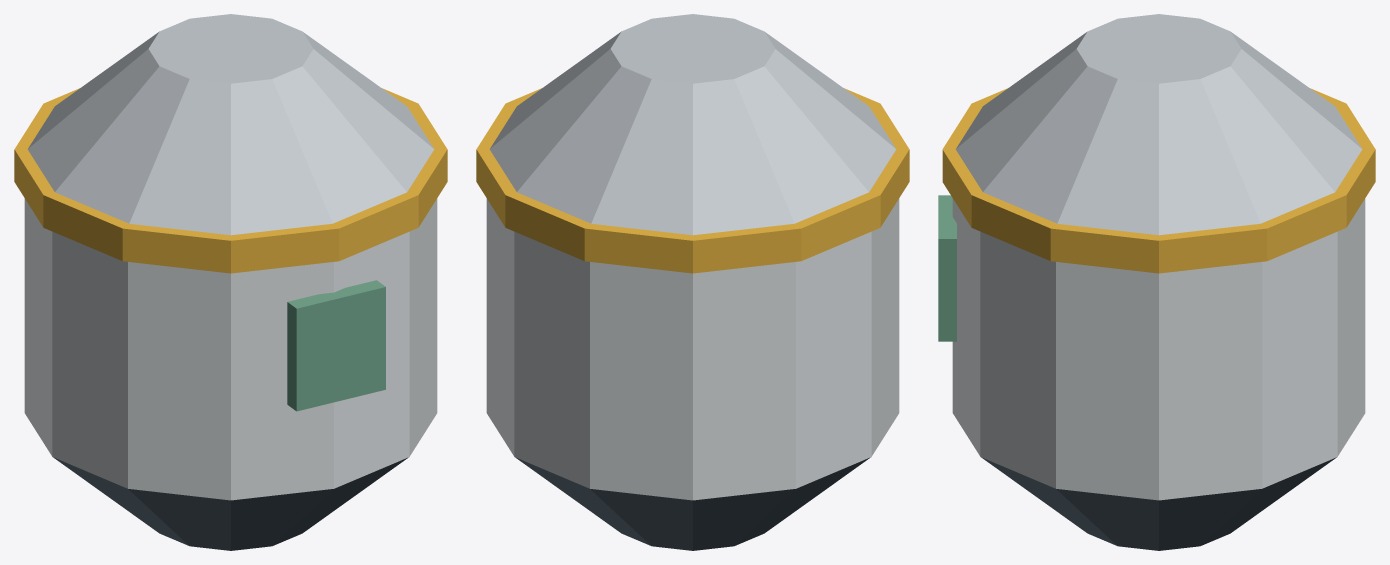
File: perilune-spore-vault.glb
3 renders of one model, left to right at view 1: azimuth 30°, elevation 25°; view 2: azimuth 150°, elevation 25°; view 3: azimuth 270°, elevation 25°, orthographic.
Parts seen in each view (by area): view 1: SM_Science_SporeVault_Core, SM_Science_SporeVault_Top, SM_Science_SporeVault_Seal, SM_Science_SporeVault_Window, SM_Science_SporeVault_Base; view 2: SM_Science_SporeVault_Core, SM_Science_SporeVault_Top, SM_Science_SporeVault_Seal, SM_Science_SporeVault_Base; view 3: SM_Science_SporeVault_Core, SM_Science_SporeVault_Top, SM_Science_SporeVault_Seal, SM_Science_SporeVault_Base, SM_Science_SporeVault_Window.
Part boxes in pixels (<box>): SM_Science_SporeVault_Core: <box>24,198,437,500</box>; SM_Science_SporeVault_Top: <box>27,14,434,235</box>; SM_Science_SporeVault_Seal: <box>14,88,447,273</box>; SM_Science_SporeVault_Window: <box>287,280,385,411</box>; SM_Science_SporeVault_Base: <box>53,457,408,550</box>; SM_Science_SporeVault_Core: <box>486,198,899,500</box>; SM_Science_SporeVault_Top: <box>489,14,896,235</box>; SM_Science_SporeVault_Seal: <box>476,88,909,273</box>; SM_Science_SporeVault_Base: <box>515,457,870,550</box>; SM_Science_SporeVault_Core: <box>952,198,1365,500</box>; SM_Science_SporeVault_Top: <box>955,14,1362,235</box>; SM_Science_SporeVault_Seal: <box>942,88,1375,273</box>; SM_Science_SporeVault_Base: <box>981,457,1336,550</box>; SM_Science_SporeVault_Window: <box>938,195,956,341</box>.
Bounding box in the file's own units: 0.42 × 0.5 × 0.424.
